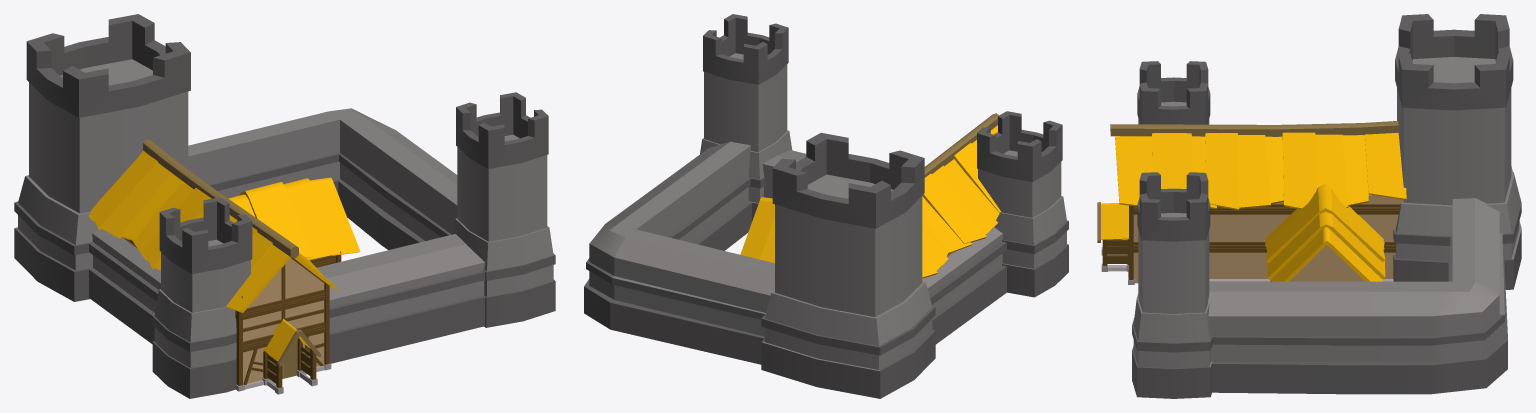
File: mesh_Barracks.fbx
The picture shows the model from 3 angles, left to right: view 1: azimuth 30°, elevation 25°; view 2: azimuth 150°, elevation 25°; view 3: azimuth 270°, elevation 25°; orthographic projection. The views are drawn at different scales.
Visible parts, largest first — view 1: Barracks; view 2: Barracks; view 3: Barracks.
Boxes of the visible parts, x1,y1,x2,y2 form: Barracks: (14,14,555,398); Barracks: (584,14,1068,398); Barracks: (1097,14,1521,398).
Size of the model in its own units: 28.14 by 15.69 by 27.95.
Materials: 1 (1 with a texture image).
